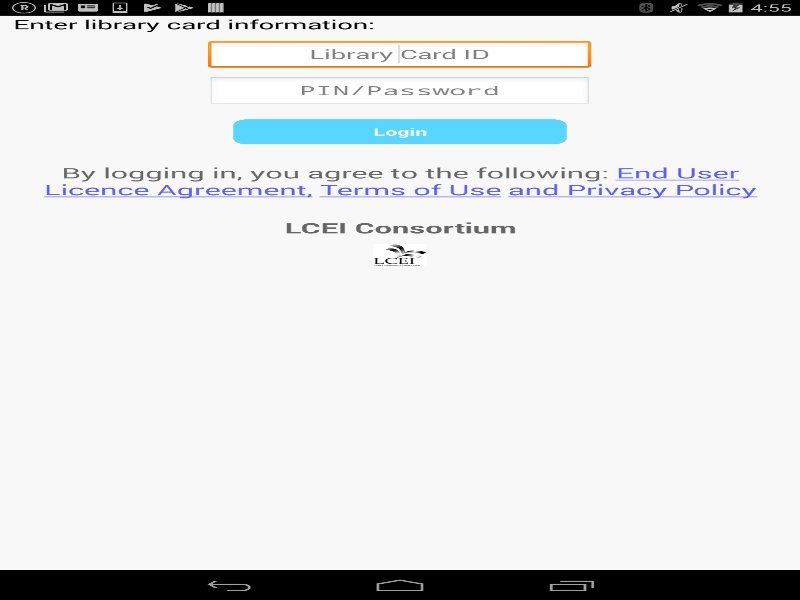Button: (233, 119, 566, 144)
Input: (208, 40, 591, 70), (208, 76, 591, 106)
